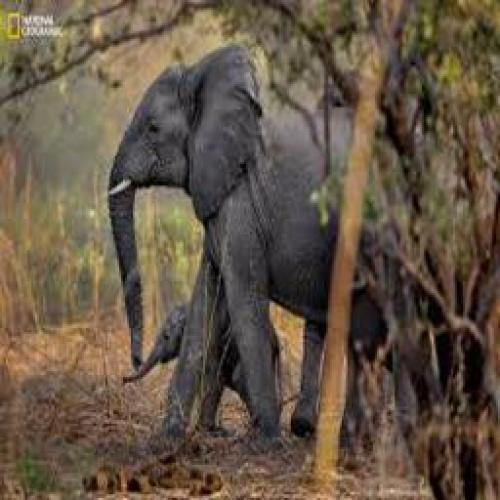african_elephant-endangered: (87, 52, 450, 438), (106, 286, 282, 430)
